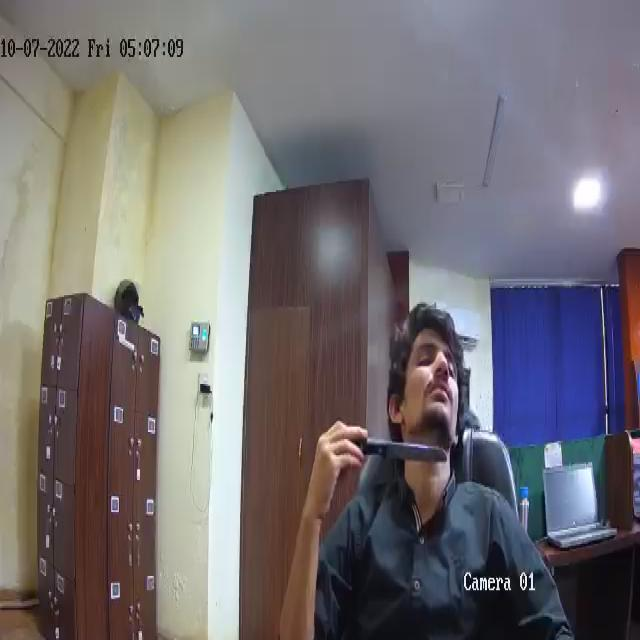Knife: (351, 432, 448, 469)
